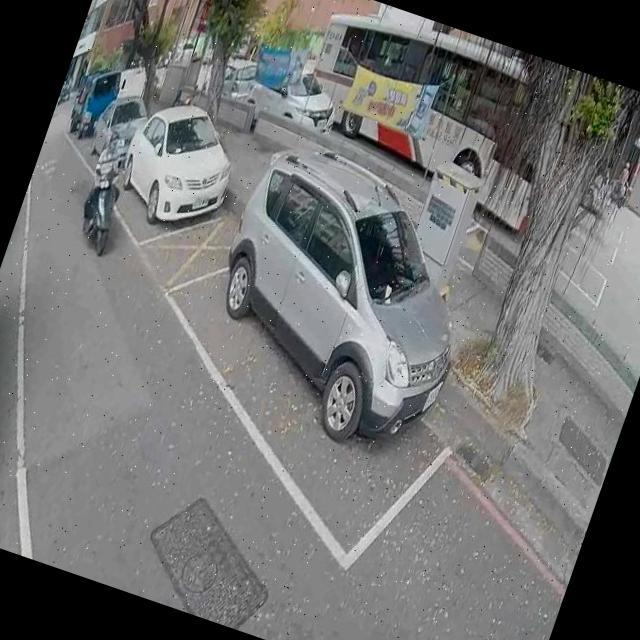person: (72, 125, 144, 241), (369, 624, 457, 640), (610, 155, 636, 204)
